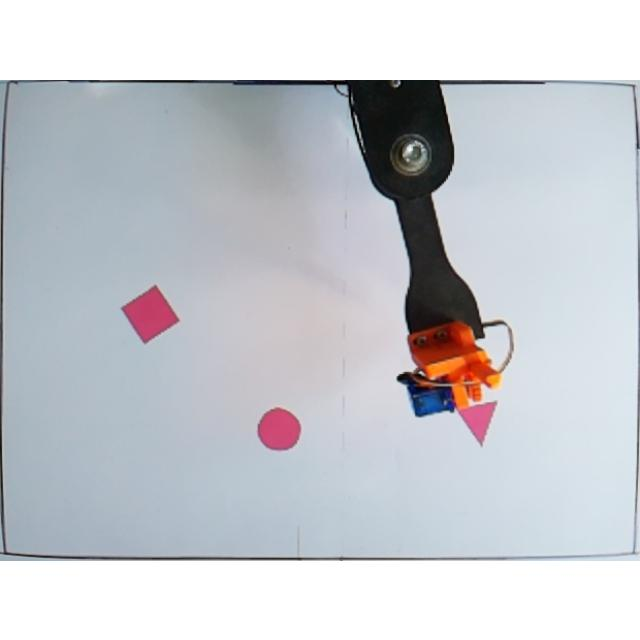pinkCircle: (255, 402, 302, 450)
pinkSquare: (120, 282, 182, 344)
pinkTriangle: (459, 400, 499, 448)
